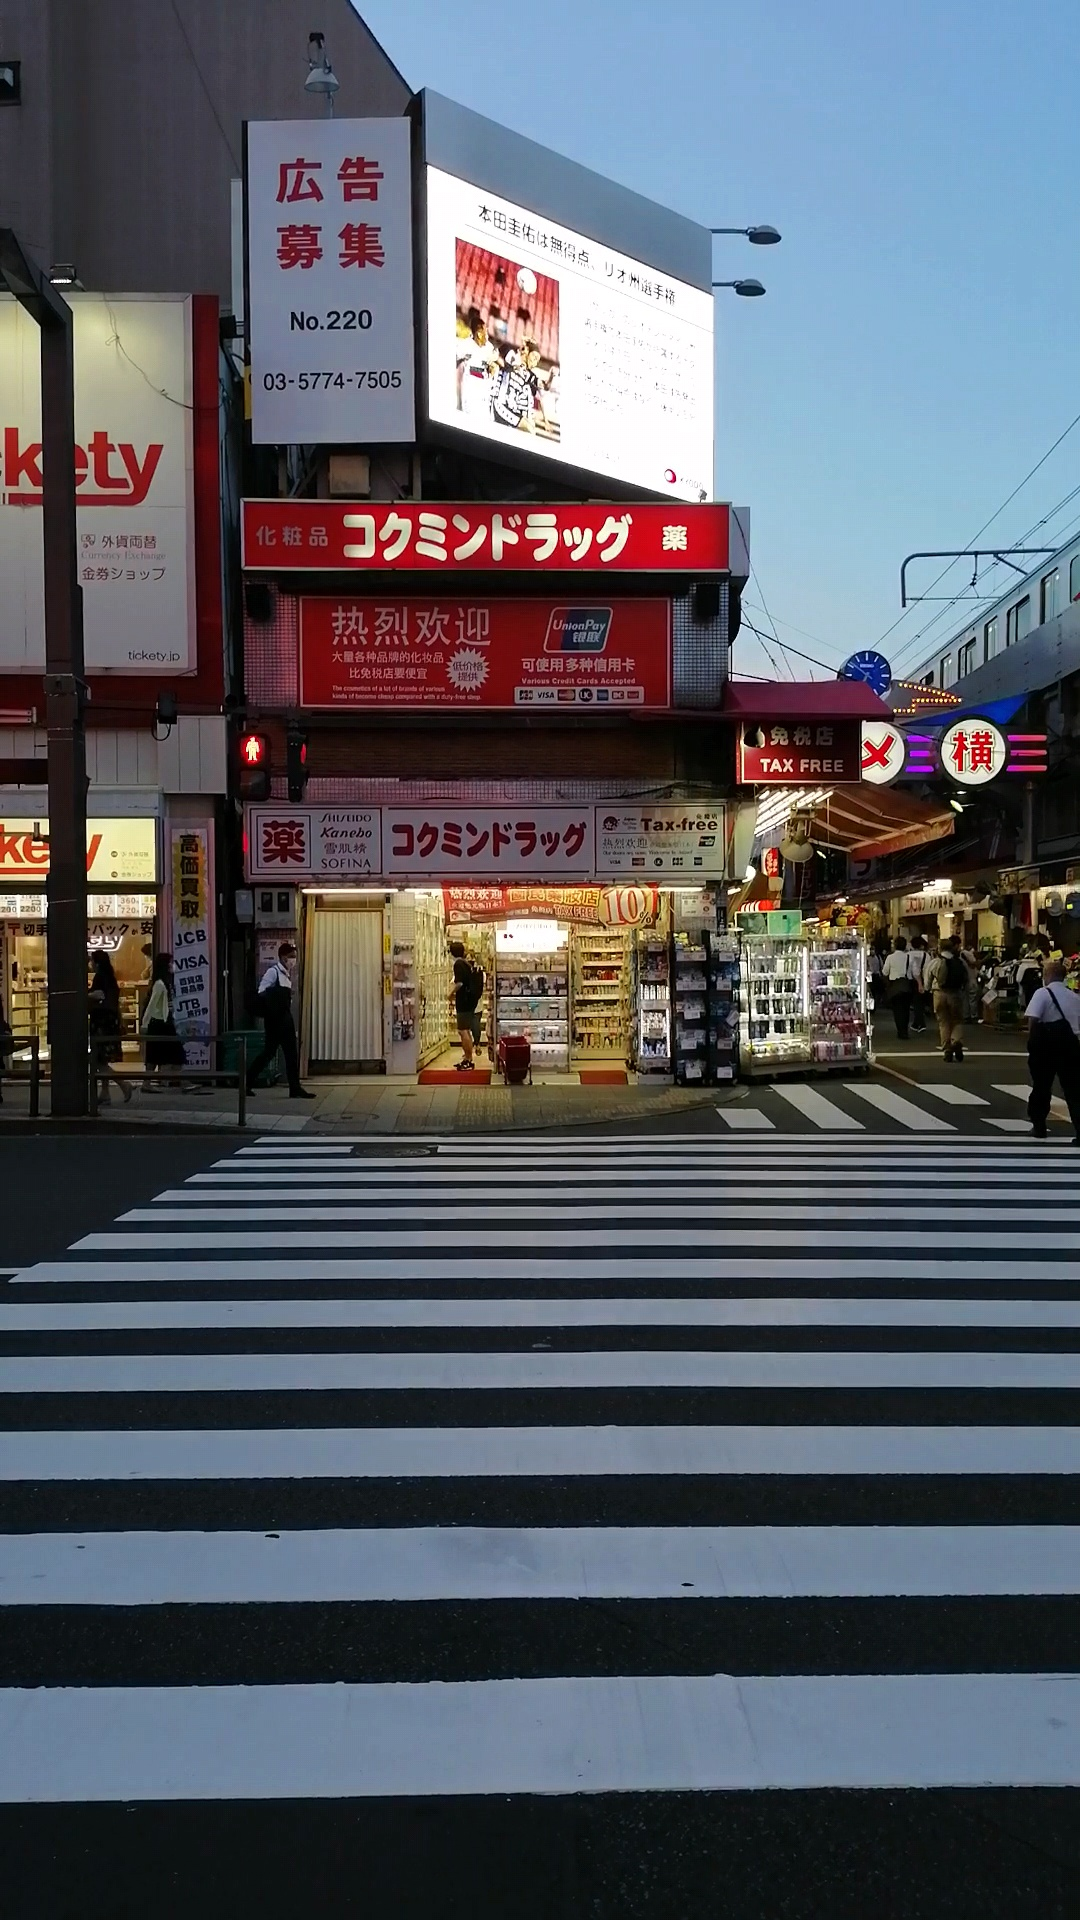red: (232, 732, 272, 800)
